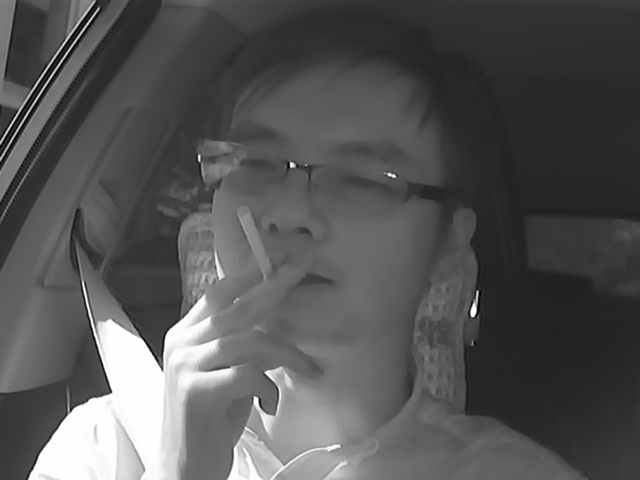hand: (157, 247, 333, 450)
